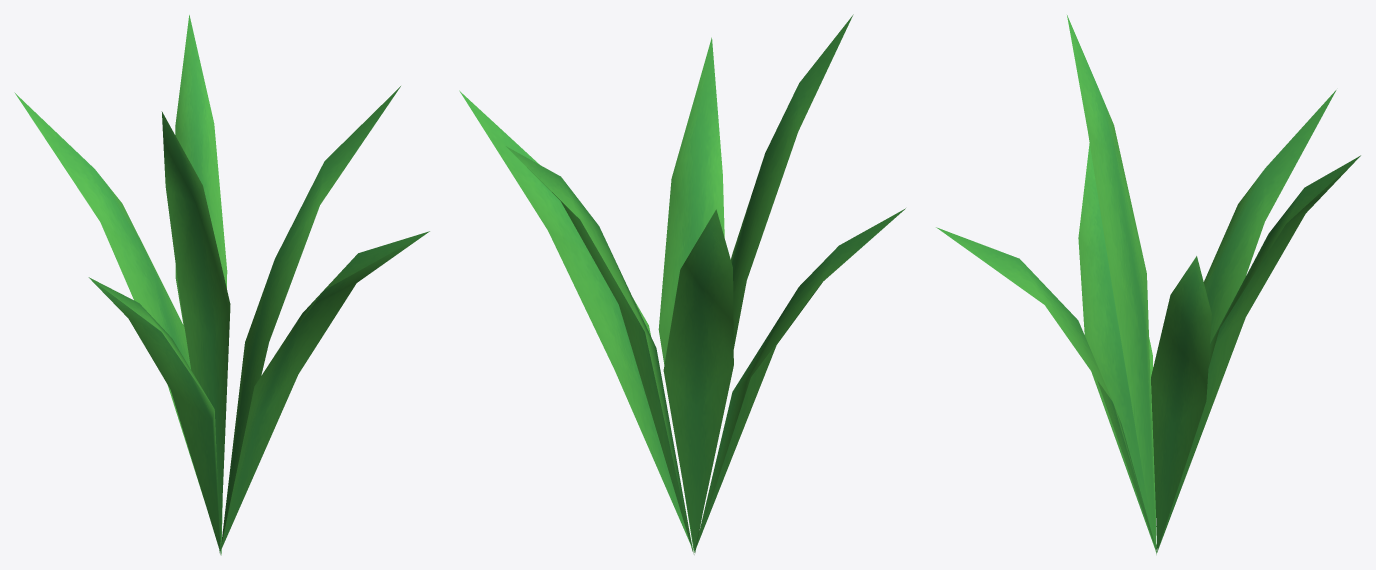
Rendered from Grass_Clump_5.fbx.
The picture shows the model from 3 angles, left to right: view 1: azimuth 30°, elevation 25°; view 2: azimuth 150°, elevation 25°; view 3: azimuth 270°, elevation 25°; orthographic projection. The views are drawn at different scales.
Visible parts, largest first — view 1: object6.065, object6.064, object6.067, object6.066, object6.068, object6.072; view 2: object6.066, object6.067, object6.064, object6.072, object6.065, object6.068; view 3: object6.065, object6.067, object6.068, object6.066, object6.072, object6.064.
Boxes of the visible parts, left/top/right/bottom form: object6.065: left=161, top=111, right=230, bottom=554; object6.064: left=220, top=231, right=429, bottom=550; object6.067: left=221, top=86, right=400, bottom=546; object6.066: left=14, top=92, right=220, bottom=551; object6.068: left=88, top=277, right=220, bottom=552; object6.072: left=175, top=15, right=227, bottom=555; object6.066: left=663, top=209, right=733, bottom=550; object6.067: left=459, top=90, right=692, bottom=549; object6.064: left=658, top=37, right=724, bottom=552; object6.072: left=506, top=146, right=693, bottom=553; object6.065: left=694, top=14, right=853, bottom=554; object6.068: left=694, top=208, right=905, bottom=552; object6.065: left=1067, top=15, right=1156, bottom=553; object6.067: left=1151, top=256, right=1211, bottom=549; object6.068: left=1078, top=143, right=1156, bottom=552; object6.066: left=1156, top=90, right=1336, bottom=549; object6.072: left=1156, top=155, right=1360, bottom=554; object6.064: left=936, top=227, right=1156, bottom=551.
Size of the model in its own units: 50.74 by 66.31 by 52.07.
